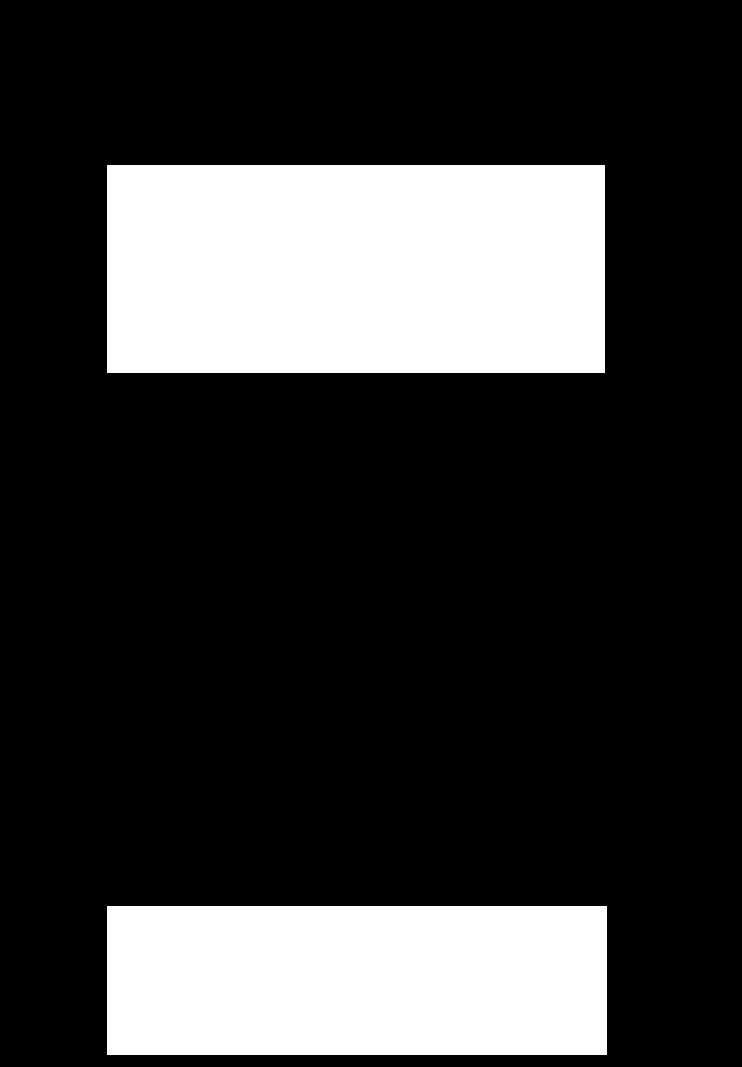table: (107, 165, 604, 372), (107, 906, 606, 1054)
